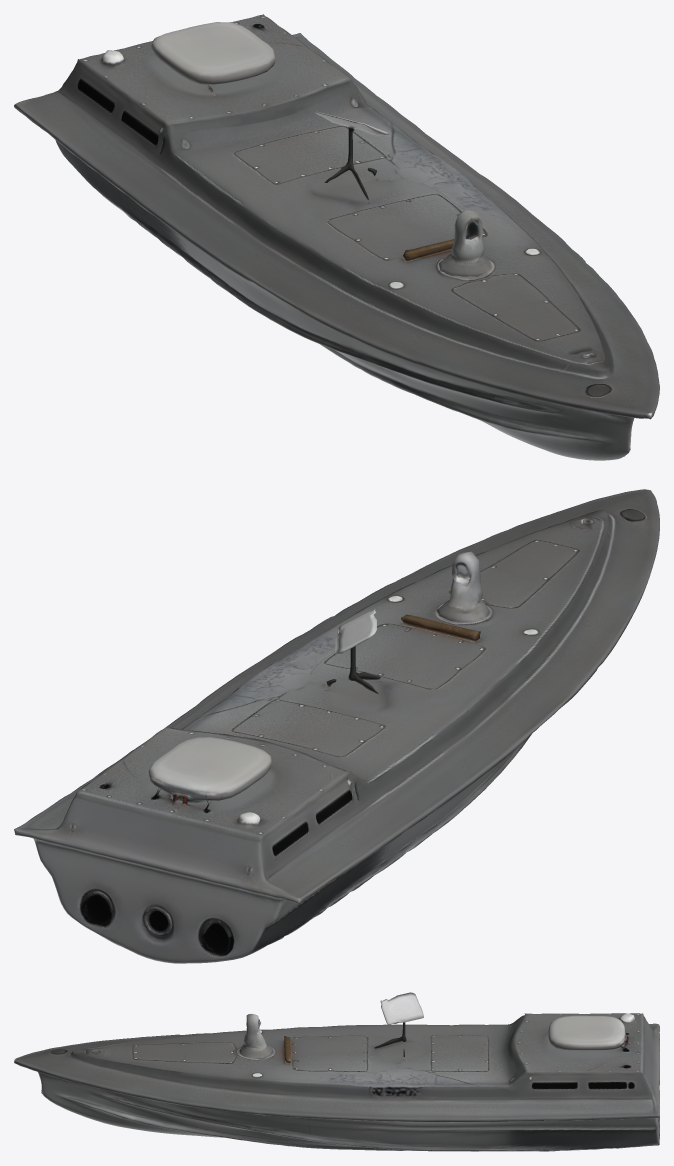
The model's file is seababy_usv_drone.glb.
3 views of the same model, one above another, from view 1: azimuth 30°, elevation 25°; view 2: azimuth 150°, elevation 25°; view 3: azimuth 270°, elevation 25° (orthographic). The views are drawn at different scales.
Visible parts, largest first — view 1: Object_2, Object_3; view 2: Object_2, Object_3; view 3: Object_2, Object_3.
Boxes of the visible parts, x1=… form: Object_2: x1=14, y1=14, x2=659, y2=460; Object_3: x1=151, y1=22, x2=491, y2=276; Object_2: x1=14, y1=489, x2=659, y2=963; Object_3: x1=91, y1=551, x2=489, y2=936; Object_2: x1=14, y1=1013, x2=659, y2=1151; Object_3: x1=239, y1=992, x2=659, y2=1121.
Size of the model in its own units: 0.6321 by 0.4571 by 1.88.
Materials: 1 (1 with a texture image).
